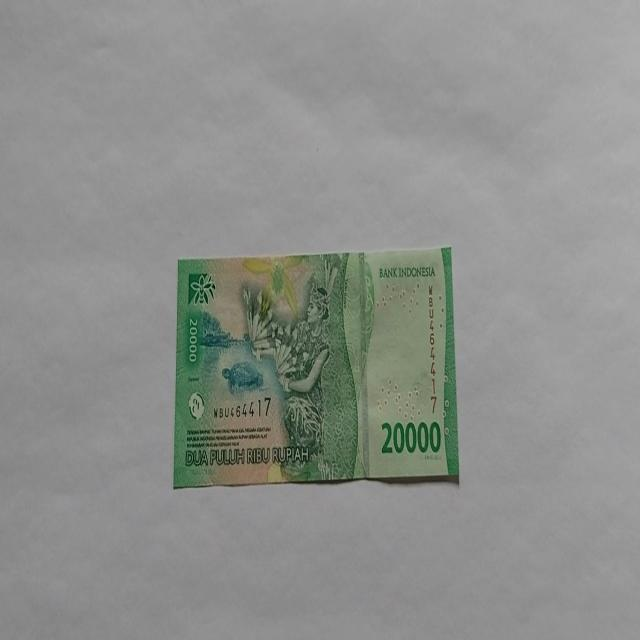dua puluh ribu rupiah: (172, 245, 460, 490), (240, 252, 374, 482)
